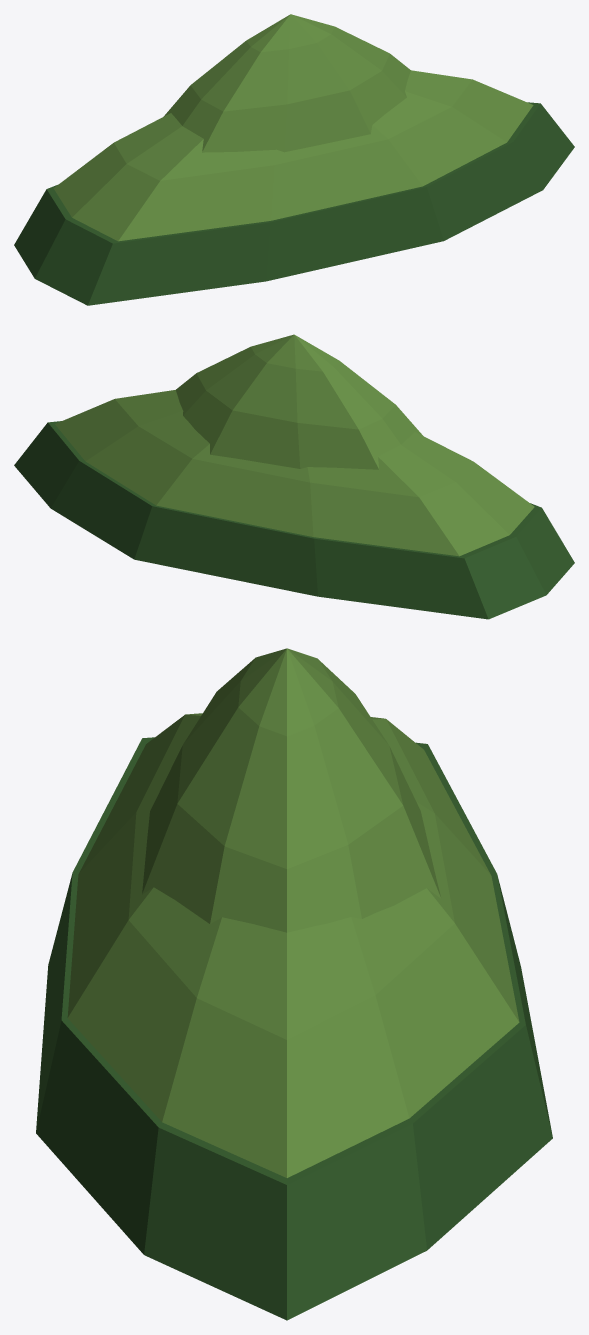
Rendered from hill.glb.
3 renders of one model, top to bottom at view 1: azimuth 30°, elevation 25°; view 2: azimuth 150°, elevation 25°; view 3: azimuth 270°, elevation 25°, orthographic. The views are drawn at different scales.
Parts seen in each view (by area): view 1: HillA, HillB; view 2: HillA, HillB; view 3: HillA, HillB.
Part boxes in pixels (x1,y1,x2,y2): HillA: [14, 70, 574, 305]; HillB: [163, 14, 410, 152]; HillA: [14, 390, 574, 619]; HillB: [176, 334, 422, 469]; HillA: [36, 713, 552, 1320]; HillB: [142, 648, 441, 932].
Size of the model in its own units: 97.85 by 35 by 41.14.
